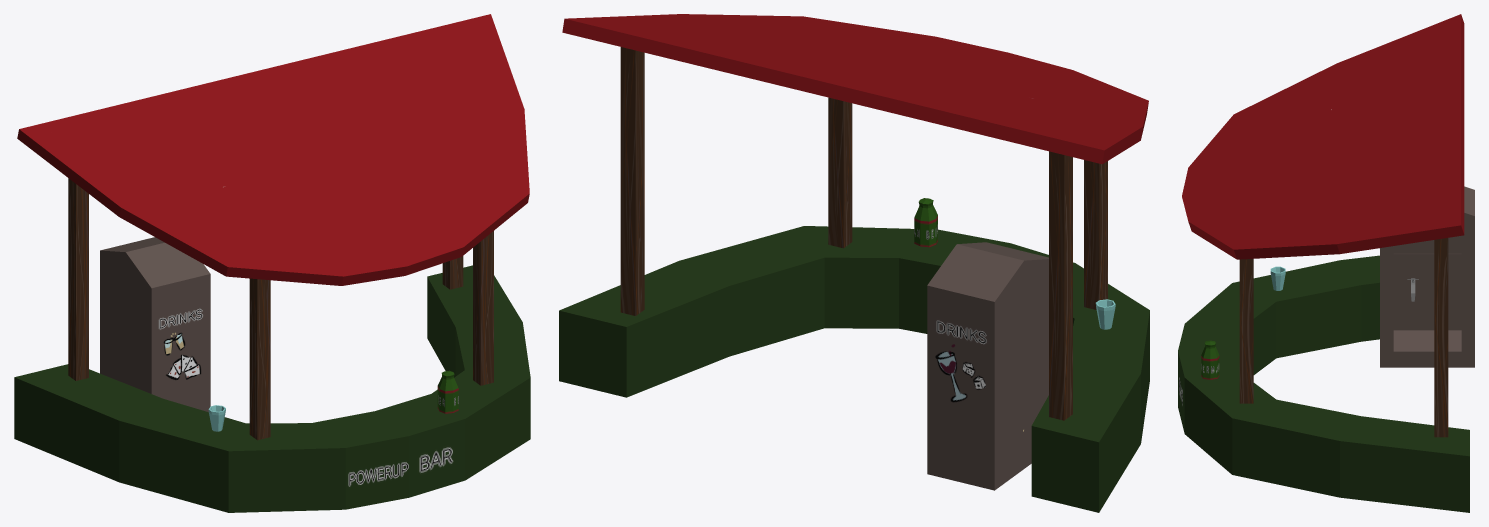
Rendered from bar.fbx.
The picture shows the model from 3 angles, left to right: view 1: azimuth 30°, elevation 25°; view 2: azimuth 150°, elevation 25°; view 3: azimuth 270°, elevation 25°; orthographic projection. The views are drawn at different scales.
Parts seen in each view (by area): view 1: Cube.002; view 2: Cube.002; view 3: Cube.002.
Part boxes in pixels (x1=…): Cube.002: x1=14, y1=14, x2=530, y2=512; Cube.002: x1=559, y1=14, x2=1149, y2=512; Cube.002: x1=1178, y1=14, x2=1474, y2=512.
Size of the model in its own units: 1600 by 1015 by 950.
